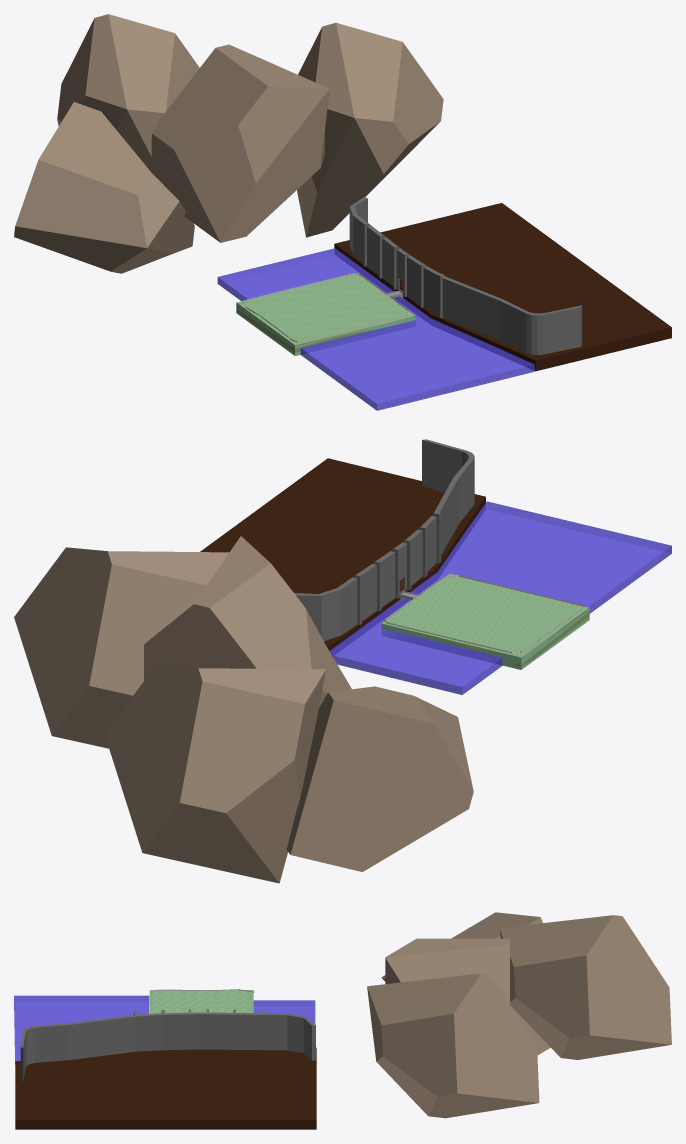
File: ch1_overworld_env.glb
3 views of the same model, one above another, from view 1: azimuth 30°, elevation 25°; view 2: azimuth 150°, elevation 25°; view 3: azimuth 270°, elevation 25° (orthographic). The views are drawn at different scales.
Visible parts, largest first — view 1: Mountains, CitadelFoundation, River, CitadelWall-col, Land, LandFence-col; view 2: Mountains, River, CitadelFoundation, Land, CitadelWall-col, LandFence-col; view 3: Mountains, CitadelFoundation, CitadelWall-col, River, Land.
Part boxes in pixels (x1,y1,x2,y2): Mountains: [14, 14, 443, 273]; CitadelFoundation: [334, 203, 671, 371]; River: [217, 248, 534, 410]; CitadelWall-col: [349, 197, 582, 355]; Land: [236, 273, 415, 355]; LandFence-col: [243, 273, 408, 343]; Mountains: [14, 536, 473, 883]; River: [329, 501, 671, 694]; CitadelFoundation: [200, 458, 485, 650]; Land: [381, 573, 589, 669]; CitadelWall-col: [294, 439, 474, 641]; LandFence-col: [384, 574, 585, 655]; Mountains: [367, 912, 671, 1118]; CitadelFoundation: [15, 1047, 316, 1129]; CitadelWall-col: [20, 1009, 315, 1082]; River: [14, 995, 315, 1064]; Land: [149, 990, 253, 1013].
Size of what is drawn, in the model's own units: 511 by 233 by 796.
14 materials, 2 textured.
